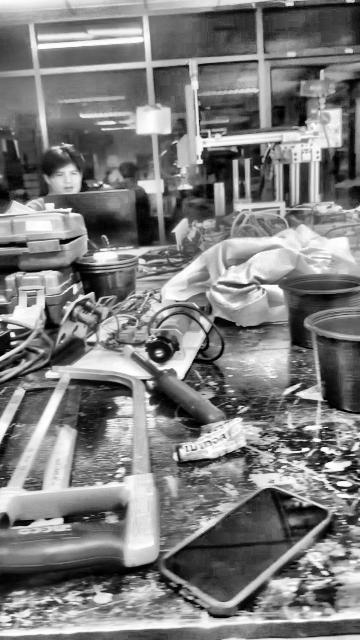pot: (302, 308, 360, 414), (280, 273, 359, 349), (71, 258, 140, 301)
